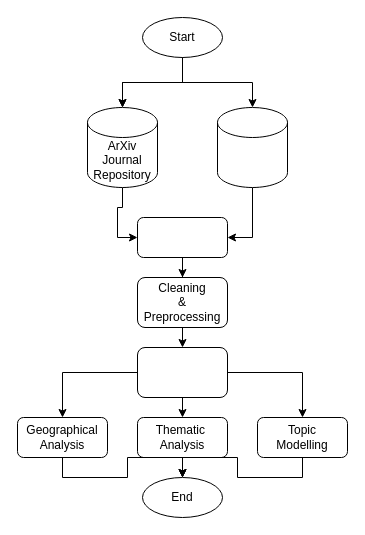
Some shapes in this 365 by 535 pixel diagram are drawn without their labels. The shapes that lost their labels are listed below. From the top down, each one's centre as x and y in pixels, then its label:
At (x=252, y=147): "Scopus Journal Repository".
At (x=182, y=237): "Dataset".
At (x=182, y=372): "Prompt Engineering".
